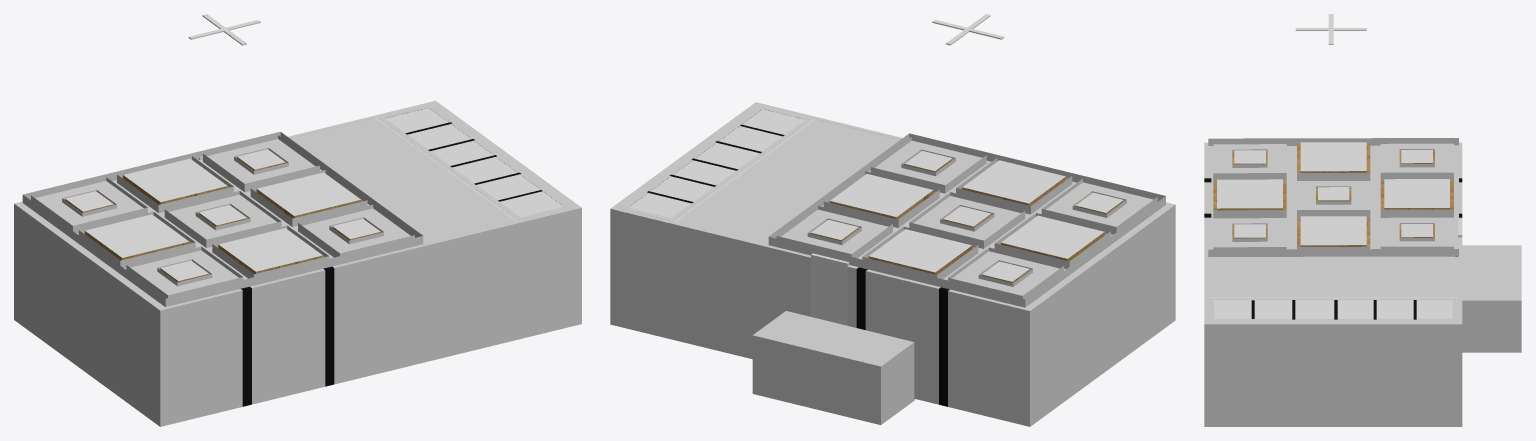
File: Gallery.fbx
3 views of the same model, side by side, from view 1: azimuth 30°, elevation 25°; view 2: azimuth 150°, elevation 25°; view 3: azimuth 270°, elevation 25° (orthographic). The views are drawn at different scales.
Parts seen in each view (by area): view 1: Room, ATAP, Cube.006, Plane.002, Plane; view 2: Room, ATAP, Cube.006, Cube.004, Plane.002, Cube.005, Room.001, Plane; view 3: ATAP, Room, Cube.006, Plane.002, Cube.004, Cube.005, Plane.
Boxes of the visible parts, x1,y1,x2,y2 form: Room: (14, 100, 581, 426); ATAP: (22, 131, 423, 306); Cube.006: (290, 118, 515, 243); Plane.002: (376, 107, 563, 221); Plane: (377, 104, 571, 220); Room: (610, 102, 1175, 426); ATAP: (768, 133, 1165, 307); Cube.006: (676, 119, 899, 244); Cube.004: (752, 311, 914, 424); Plane.002: (628, 109, 815, 221); Cube.005: (756, 311, 910, 365); Room.001: (811, 253, 849, 325); Plane: (620, 105, 813, 221); ATAP: (1208, 138, 1458, 256); Room: (1204, 142, 1462, 426); Cube.006: (1208, 256, 1457, 297); Plane.002: (1208, 297, 1457, 318); Cube.004: (1462, 245, 1521, 352); Cube.005: (1462, 246, 1520, 299); Plane: (1208, 298, 1457, 321).
Bounding box in the file's own units: 1722 × 1244 × 1272.
